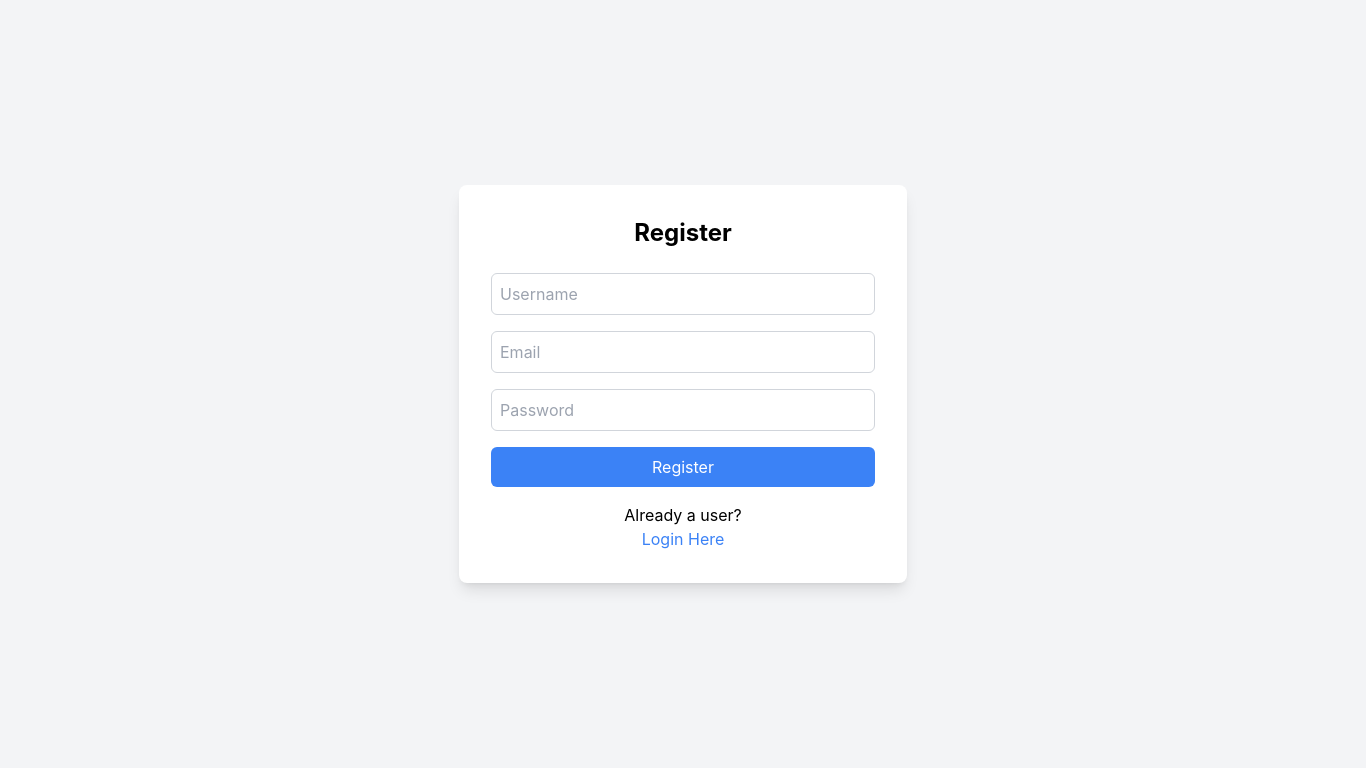
Test: Register Component › failed registration displays error message
Type "wronguser" into the field with placeholder "Username".
click(683, 294); type("wronguser")  # box [491,273,875,315]
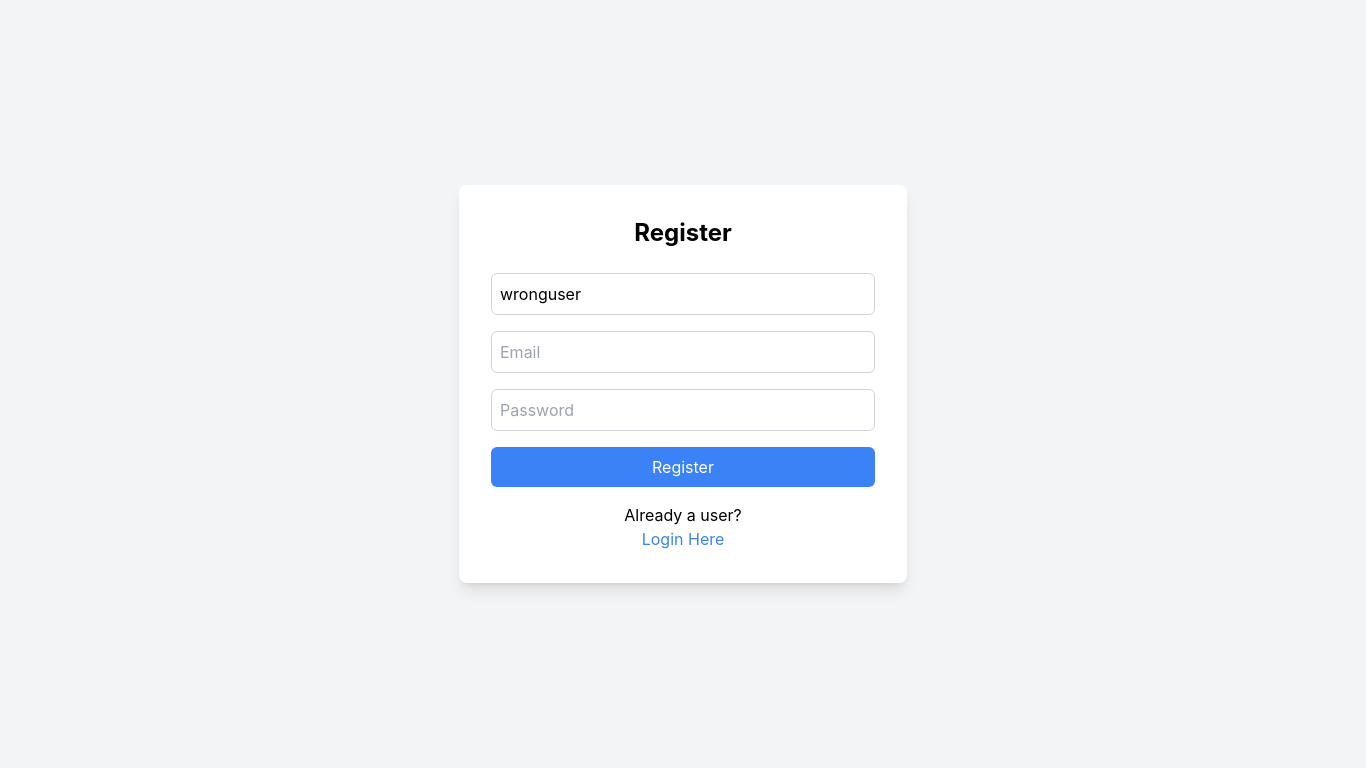
Type "wronguser@example.com" into the field with placeholder "Email".
click(683, 352); type("wronguser@example.com")  # box [491,331,875,373]
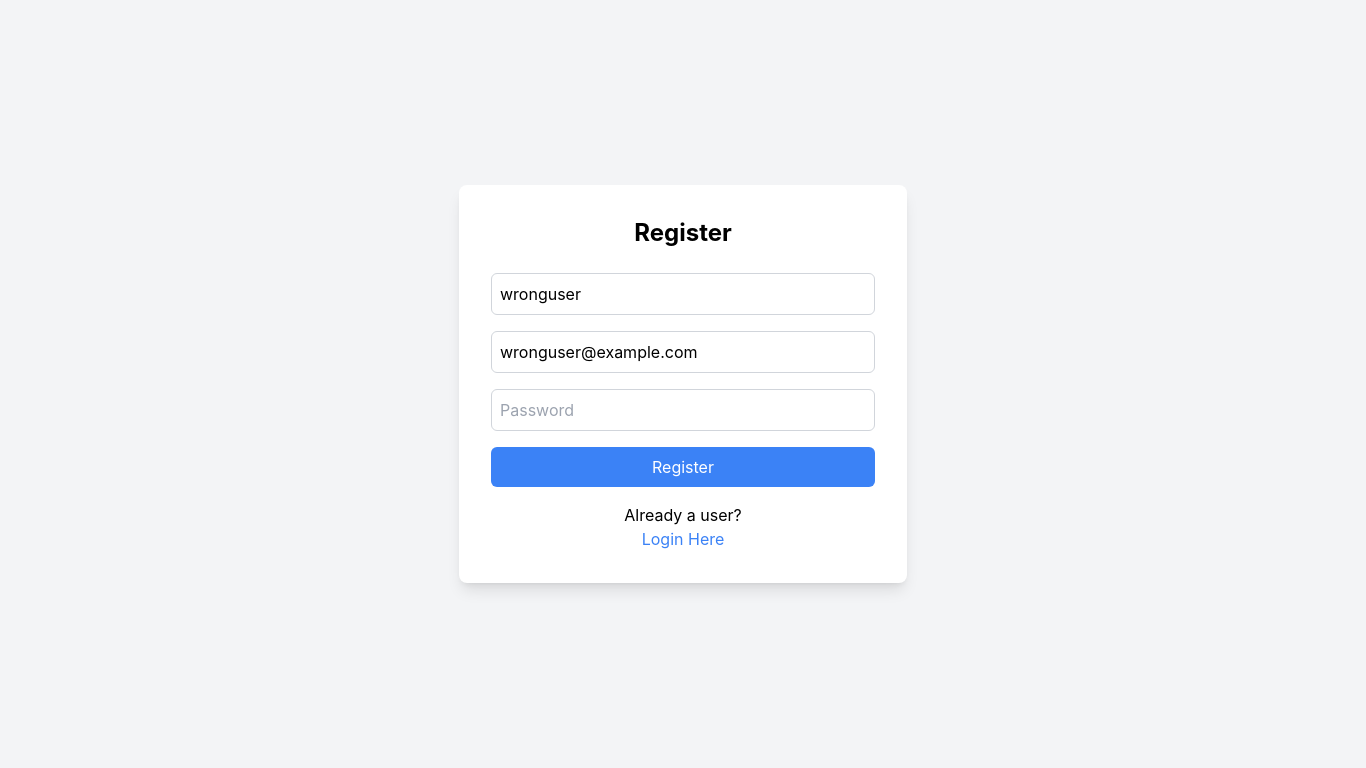
Type "wrongpassword" into the password field with placeholder "Password".
click(683, 410); type("wrongpassword")  # box [491,389,875,431]
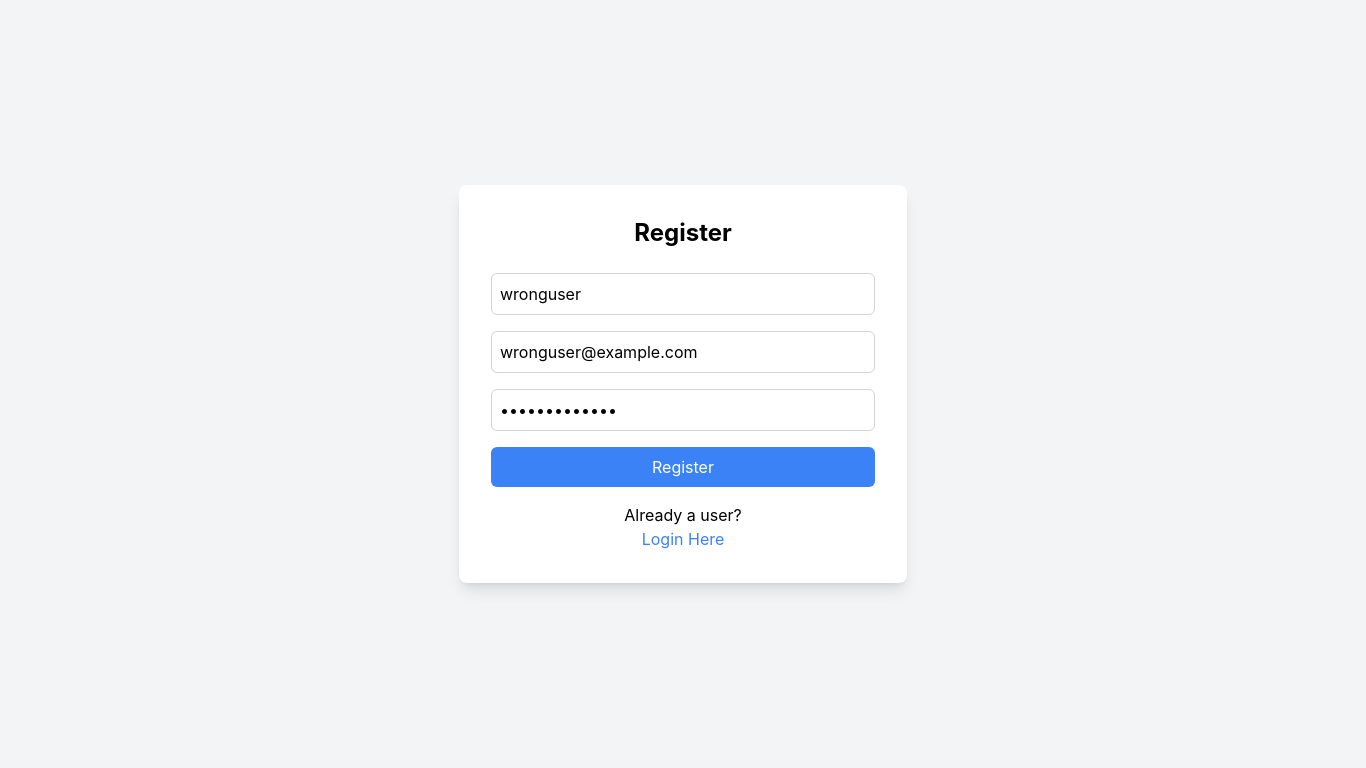
Click the button "Register".
click(683, 467)  # box [491,447,875,487]
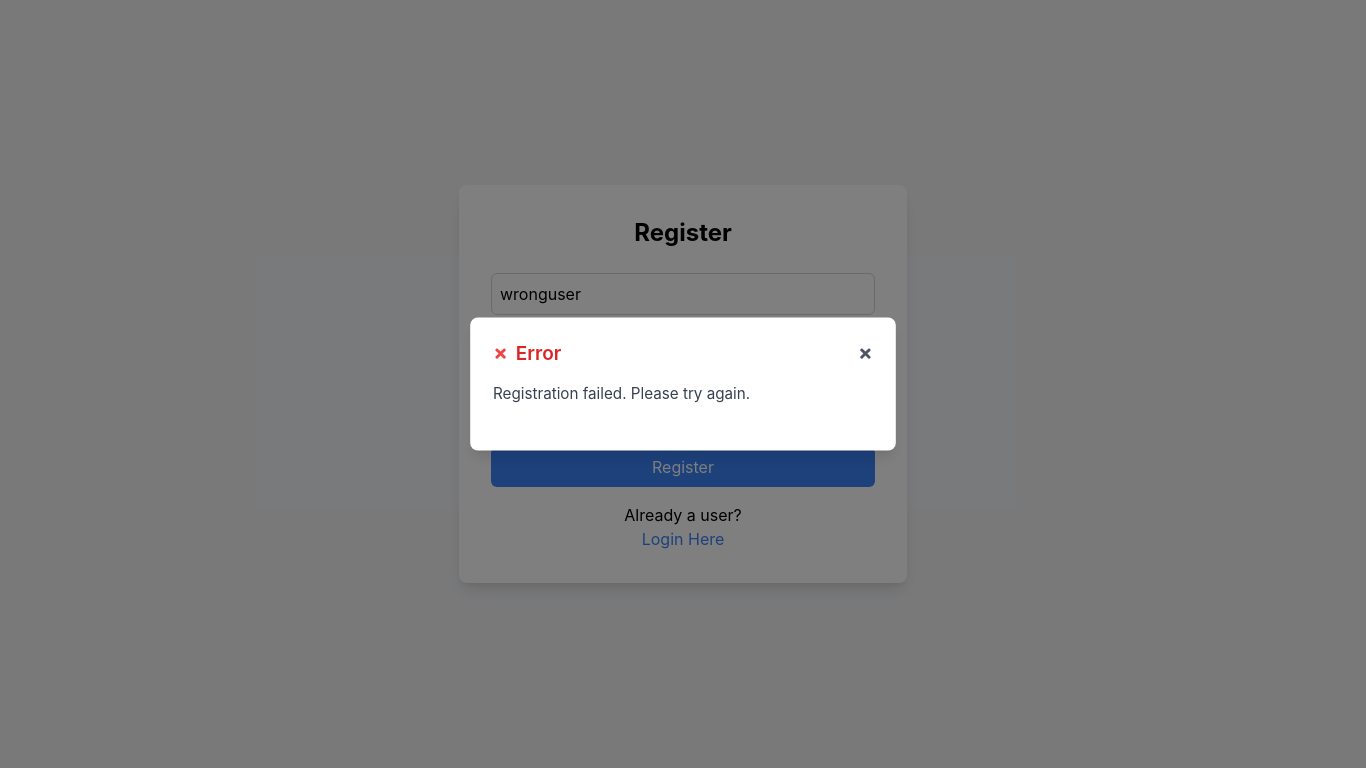
Expected: the text "Registration failed. Please try again." is shown, [493,384,750,403]
